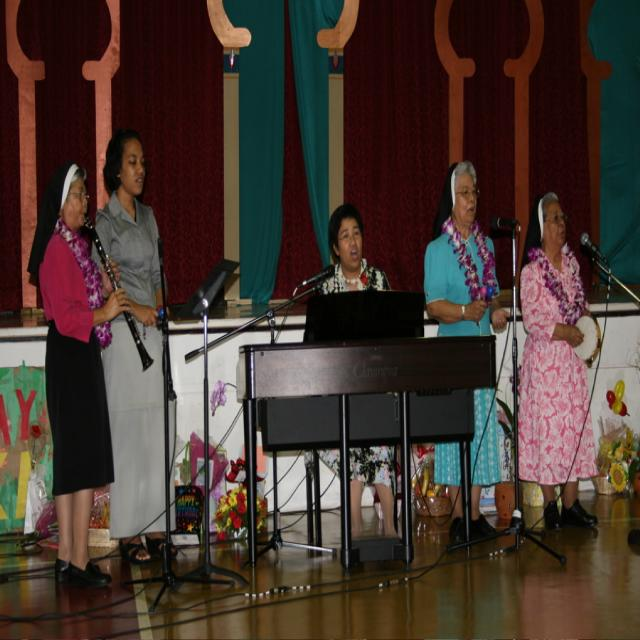clarinet: (83, 210, 156, 374)
